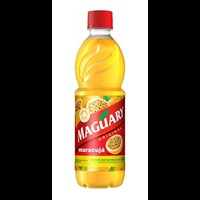maguary: (71, 7, 129, 189)
